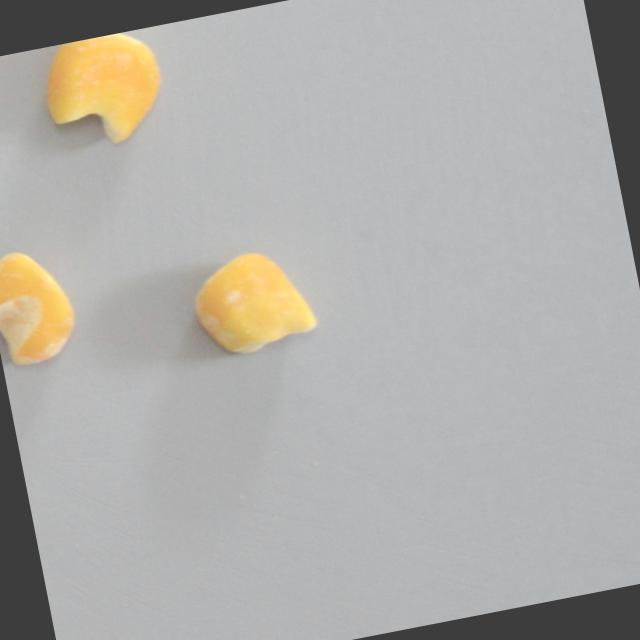pelicula: (184, 241, 320, 362), (40, 27, 168, 150), (0, 242, 83, 372)
